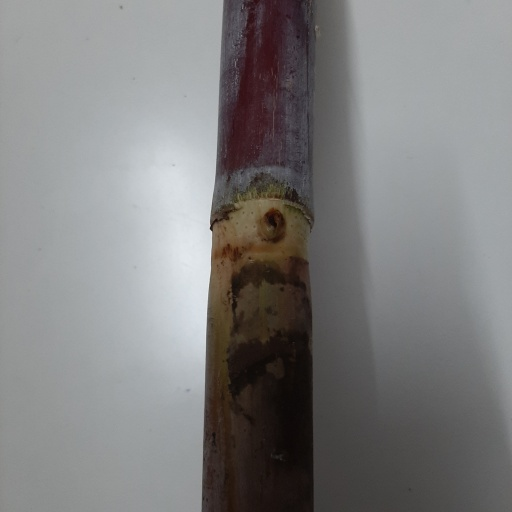Bud: (259, 208, 286, 246)
